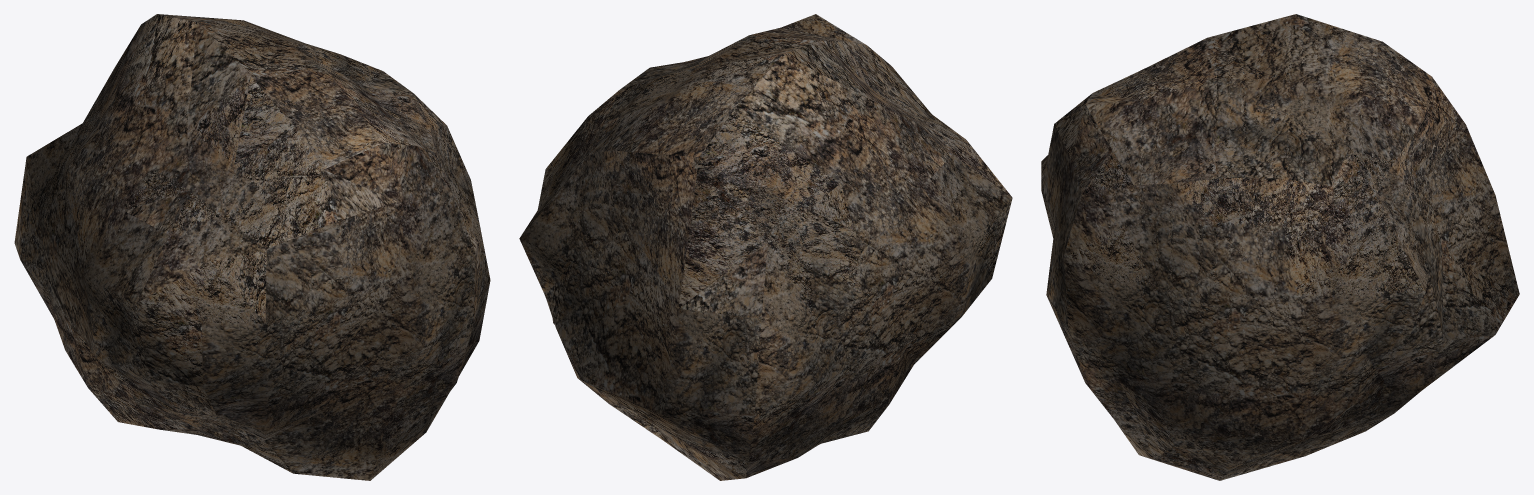
The model's file is rock_01.DAE.
3 renders of one model, left to right at view 1: azimuth 30°, elevation 25°; view 2: azimuth 150°, elevation 25°; view 3: azimuth 270°, elevation 25°, orthographic. The views are drawn at different scales.
Visible parts, largest first — view 1: rockLP001; view 2: rockLP001; view 3: rockLP001.
Boxes of the visible parts, left/top/right/bottom form: rockLP001: left=14, top=14, right=490, bottom=480; rockLP001: left=519, top=14, right=1012, bottom=480; rockLP001: left=1041, top=14, right=1519, bottom=480.
Bounding box in the file's own units: 2.34 × 2.47 × 2.55.
